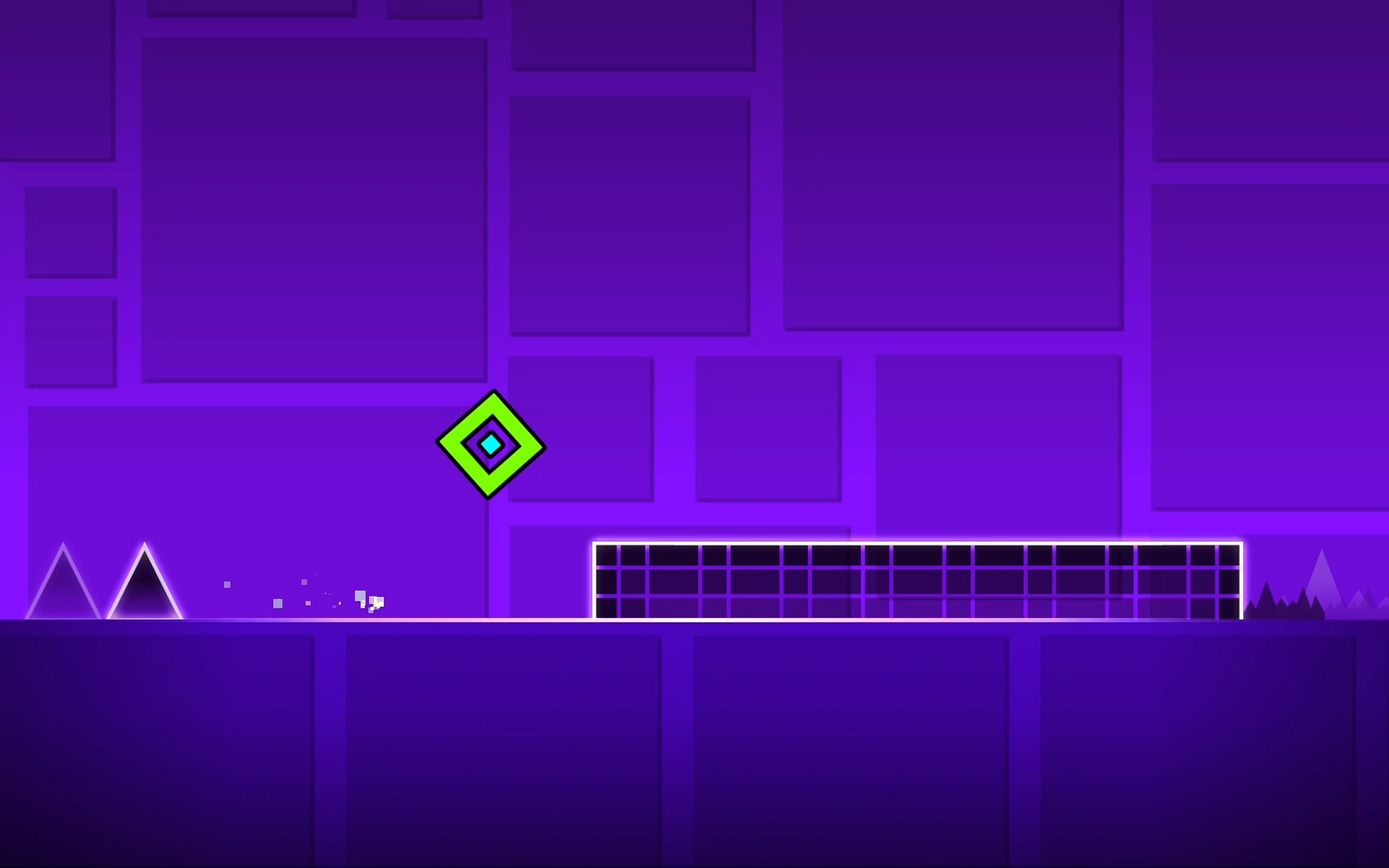Block2: (592, 540, 1237, 614)
Player: (435, 388, 547, 498)
Spike: (104, 542, 183, 617)
Spike2: (1243, 583, 1389, 620)
